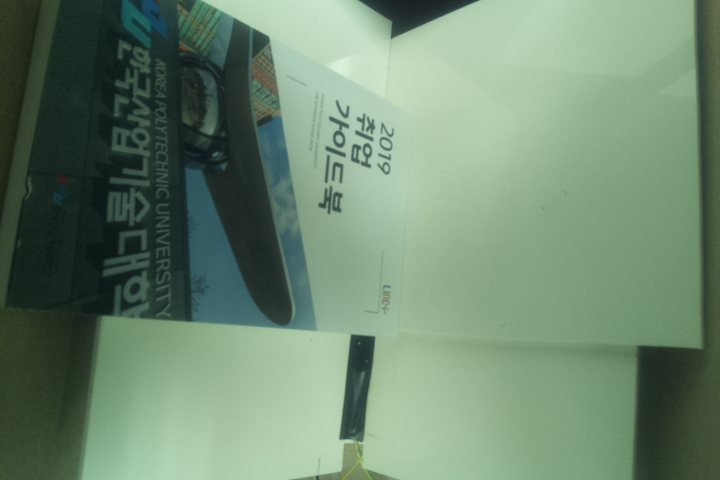book: (1, 1, 414, 342)
